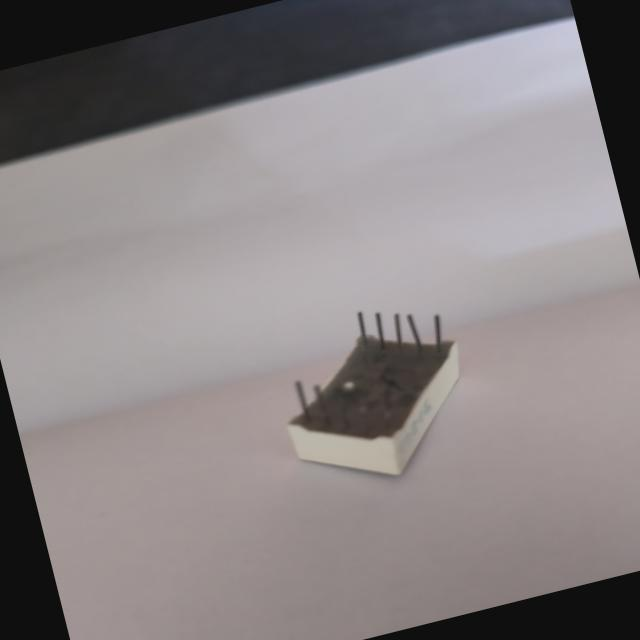sevensegment: (247, 276, 500, 513)
